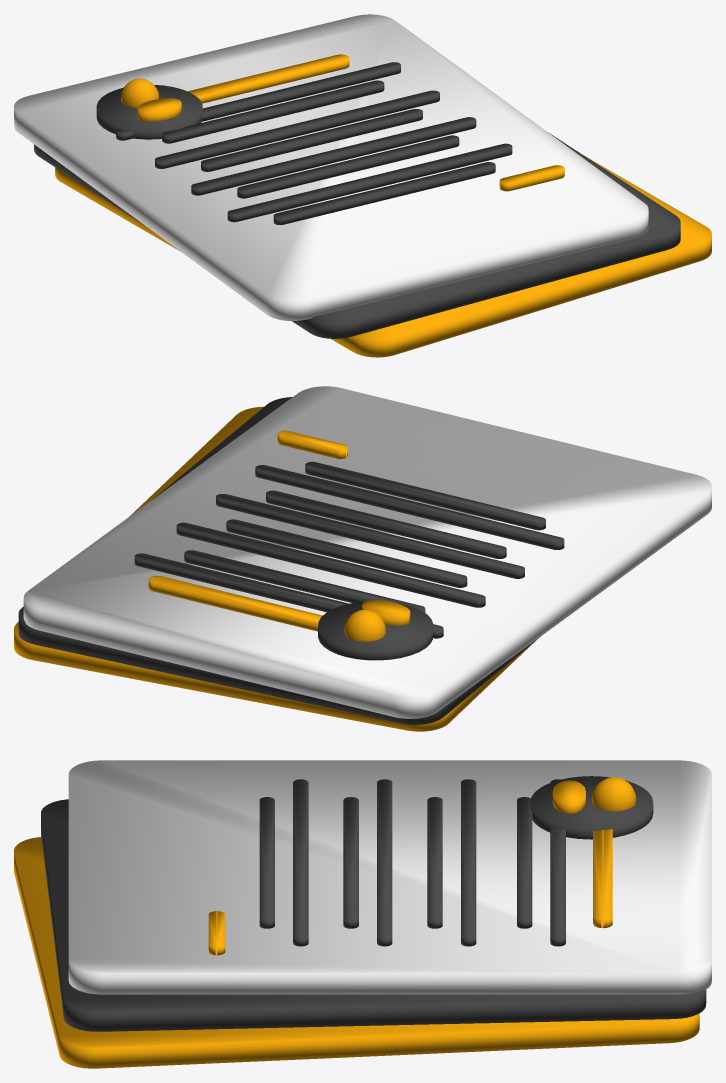
The model's file is resume.glb.
3 renders of one model, top to bottom at view 1: azimuth 30°, elevation 25°; view 2: azimuth 150°, elevation 25°; view 3: azimuth 270°, elevation 25°, orthographic. The views are drawn at different scales.
Visible parts, largest first — view 1: ResFront, ResBack, ResMid, ResLine_4, ResLine_6, ResLine_2, ResAvatar, ResLine_5, ResLine_7, ResLine_3, ResLine_1, ResLine_0 (+4 smaller); view 2: ResFront, ResBack, ResMid, ResLine_2, ResLine_6, ResLine_4, ResAvatar, ResLine_3, ResLine_7, ResLine_5, ResLine_0, ResNameLine (+4 smaller); view 3: ResFront, ResBack, ResMid, ResAvatar, ResLine_2, ResLine_4, ResLine_6, ResLine_3, ResLine_5, ResLine_7, ResLine_1, ResNameLine (+4 smaller).
Boxes of the visible parts, bbox=[...] form: ResFront: bbox=[14, 14, 648, 320]; ResBack: bbox=[55, 156, 711, 357]; ResMid: bbox=[34, 133, 680, 338]; ResLine_4: bbox=[191, 117, 476, 195]; ResLine_6: bbox=[227, 143, 512, 222]; ResLine_2: bbox=[155, 90, 439, 168]; ResAvatar: bbox=[96, 85, 202, 139]; ResLine_5: bbox=[237, 135, 459, 198]; ResLine_7: bbox=[273, 162, 495, 224]; ResLine_3: bbox=[201, 109, 422, 171]; ResLine_1: bbox=[162, 80, 384, 143]; ResLine_0: bbox=[116, 62, 400, 140]; ResFront: bbox=[23, 386, 711, 718]; ResBack: bbox=[14, 406, 536, 731]; ResMid: bbox=[18, 397, 538, 724]; ResLine_2: bbox=[176, 522, 485, 607]; ResLine_6: bbox=[255, 465, 564, 549]; ResLine_4: bbox=[216, 494, 524, 578]; ResAvatar: bbox=[318, 601, 433, 660]; ResLine_3: bbox=[226, 519, 467, 587]; ResLine_7: bbox=[305, 461, 545, 530]; ResLine_5: bbox=[266, 490, 506, 558]; ResLine_0: bbox=[134, 553, 443, 638]; ResNameLine: bbox=[148, 576, 322, 631]; ResFront: bbox=[68, 760, 711, 994]; ResBack: bbox=[14, 837, 699, 1068]; ResMid: bbox=[41, 799, 706, 1031]; ResAvatar: bbox=[530, 776, 653, 839]; ResLine_2: bbox=[461, 779, 476, 946]; ResLine_4: bbox=[377, 779, 392, 946]; ResLine_6: bbox=[293, 779, 308, 946]; ResLine_3: bbox=[427, 797, 442, 928]; ResLine_5: bbox=[343, 797, 358, 928]; ResLine_7: bbox=[259, 797, 274, 928]; ResLine_1: bbox=[517, 797, 532, 928]; ResNameLine: bbox=[593, 829, 612, 928].
Bounding box in the file's own units: 2.08 × 0.38 × 2.5.
